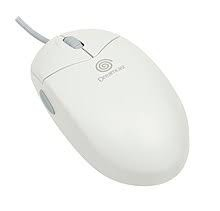mouse: (24, 26, 196, 191)
